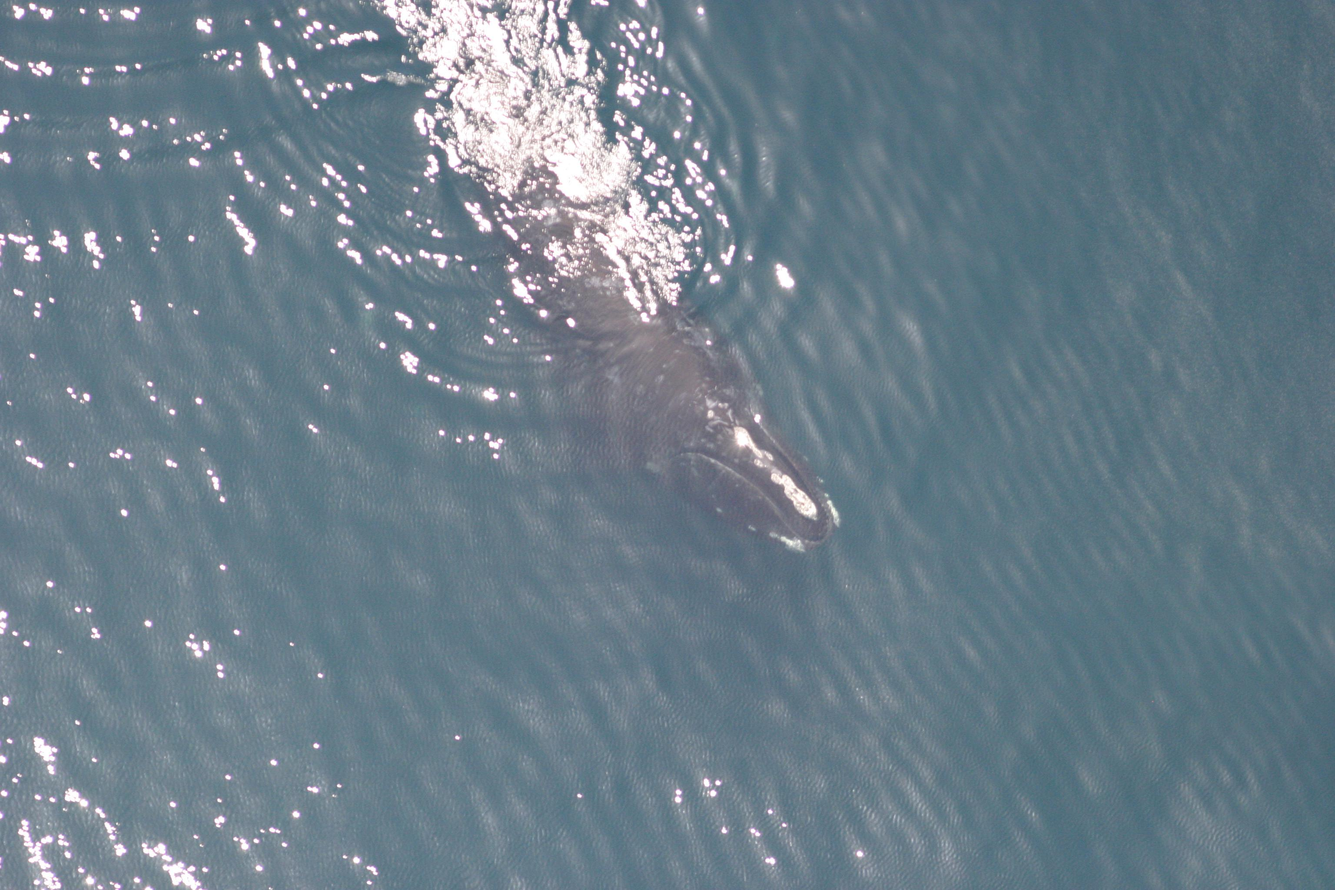whale: (355, 41, 851, 564)
